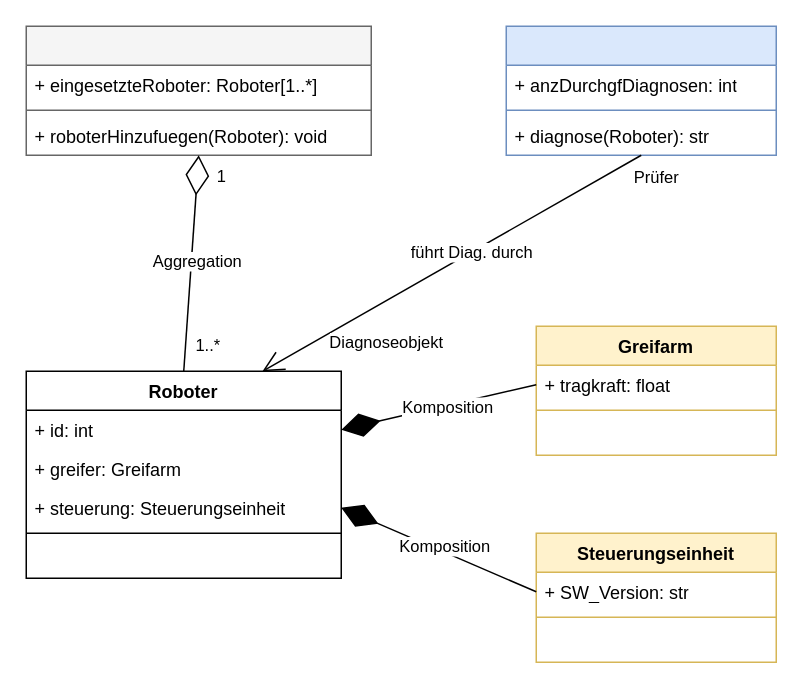
Image size: 803x693. Some labels were removed from this diagram. Each missing label, with the box of its shape:
Produktionsstrasse: (25, 25, 371, 155)
Wartungssystem: (505, 25, 776, 155)
